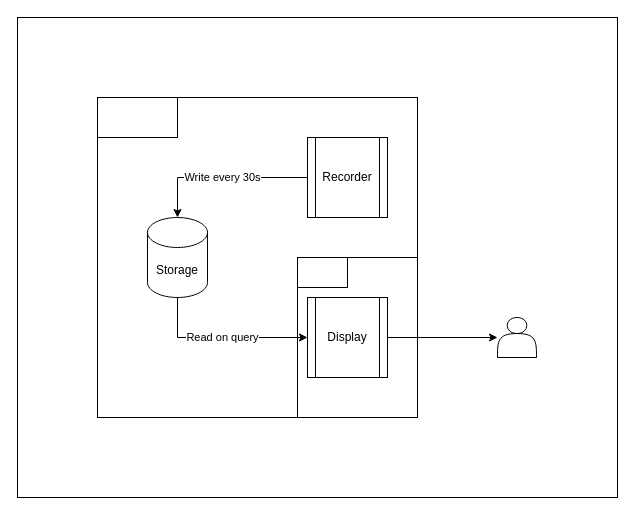
Image size: 635x515. Some labels were removed from this diagram. Each missing label, with the centre of its shape:
"CLI" goes at (x=322, y=272).
"OS" goes at (x=137, y=117).
